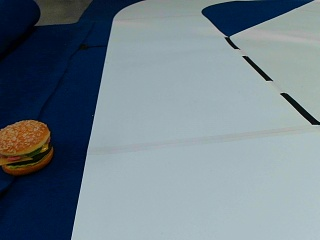burger: (0, 119, 55, 174)
